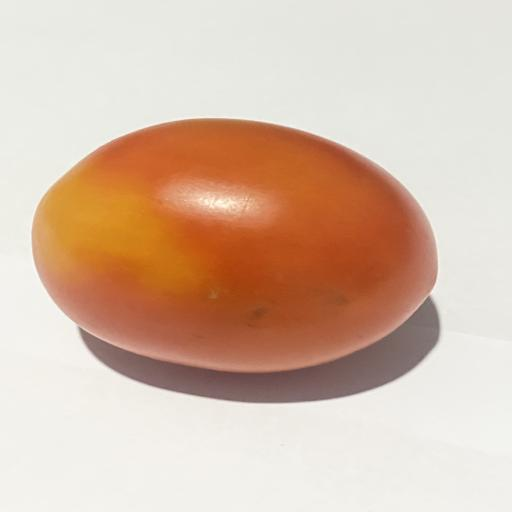ripe: (31, 119, 437, 372)
